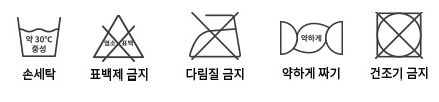KR_gentle_wring: (276, 15, 346, 61)
KR_hand_wash_30_neutral: (14, 14, 65, 60)
KR_no_chlorine_bleach: (90, 10, 147, 64)
KR_no_iron: (184, 8, 243, 64)
KR_no_tumble_dry: (370, 9, 426, 61)
